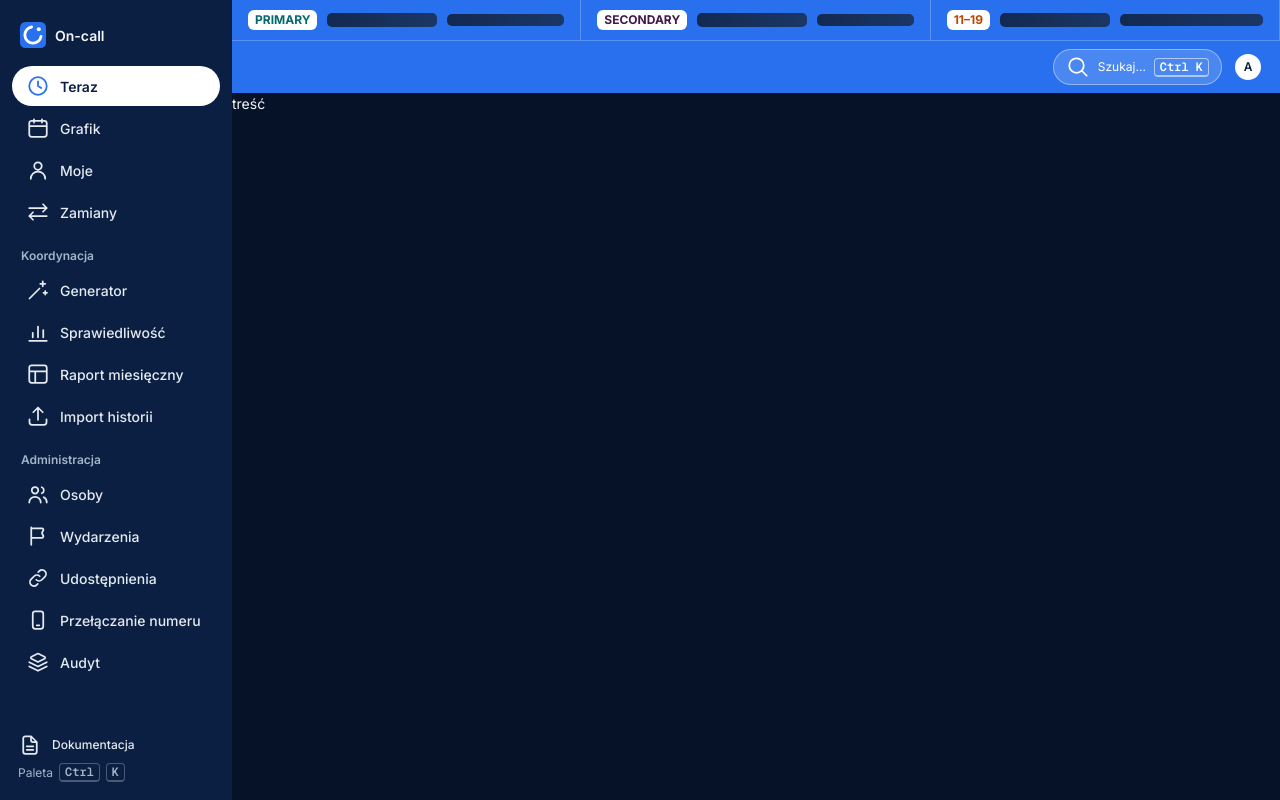
Test: AppShell account menu › opens on the avatar with the theme, the density and the way out
Click the button named "Konto: " at (1248, 67), box [1228, 47, 1268, 87]
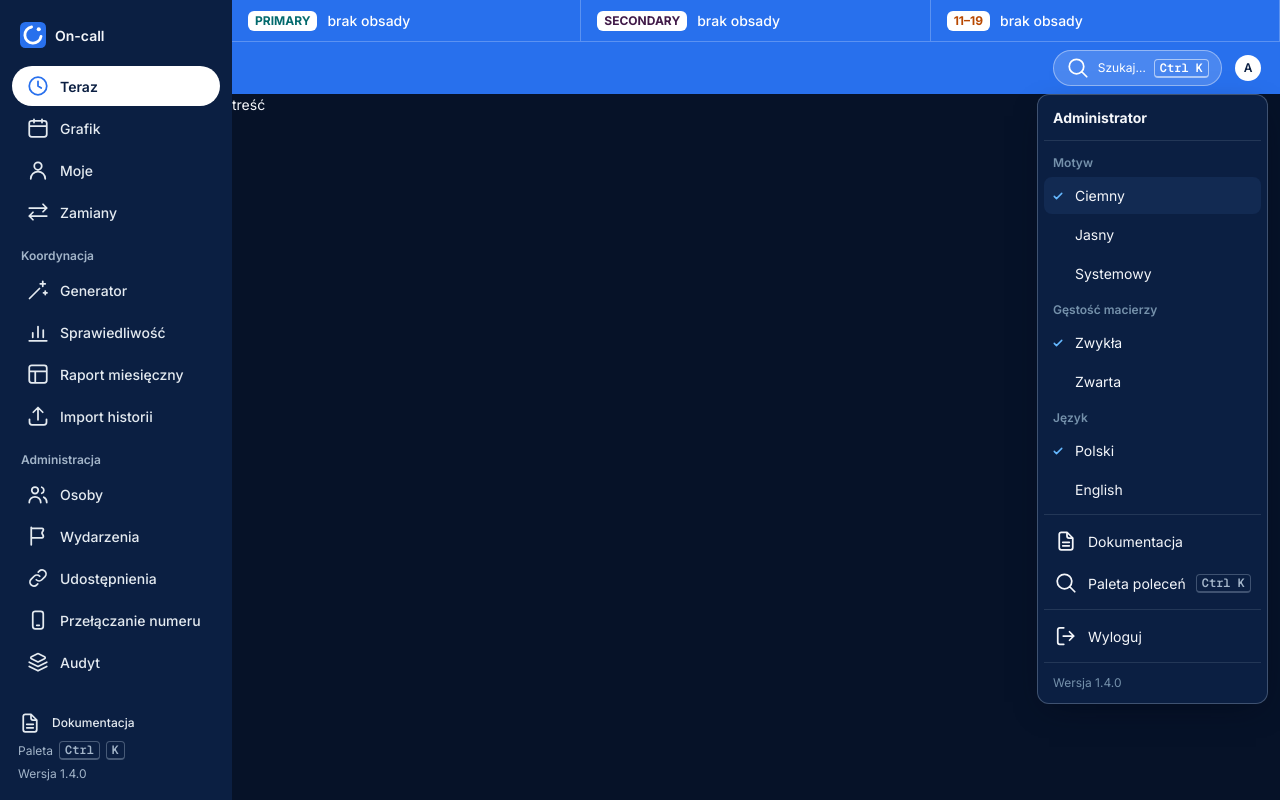
Expected: the navigation bar named "Główna nawigacja" is shown, [12, 66, 220, 682]
Expected: the text "Motyw" is shown, [1053, 155, 1093, 170]
Expected: the menu item "Wyloguj" is shown, [1054, 624, 1142, 648]
